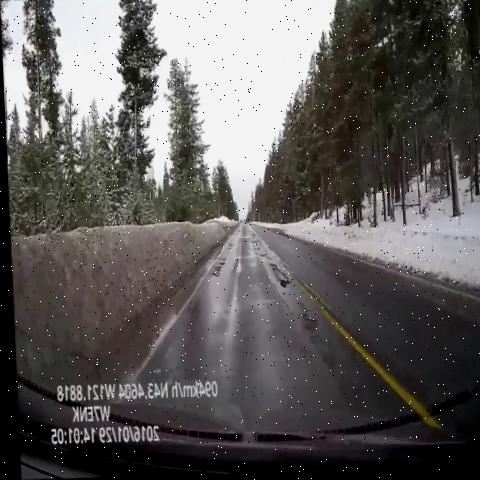pothole: (291, 291, 321, 356), (262, 254, 291, 296), (201, 249, 228, 288), (246, 226, 263, 263)
